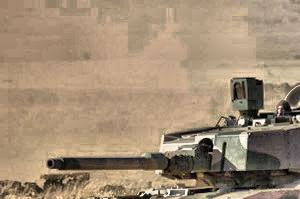tanks: (49, 78, 300, 199)
